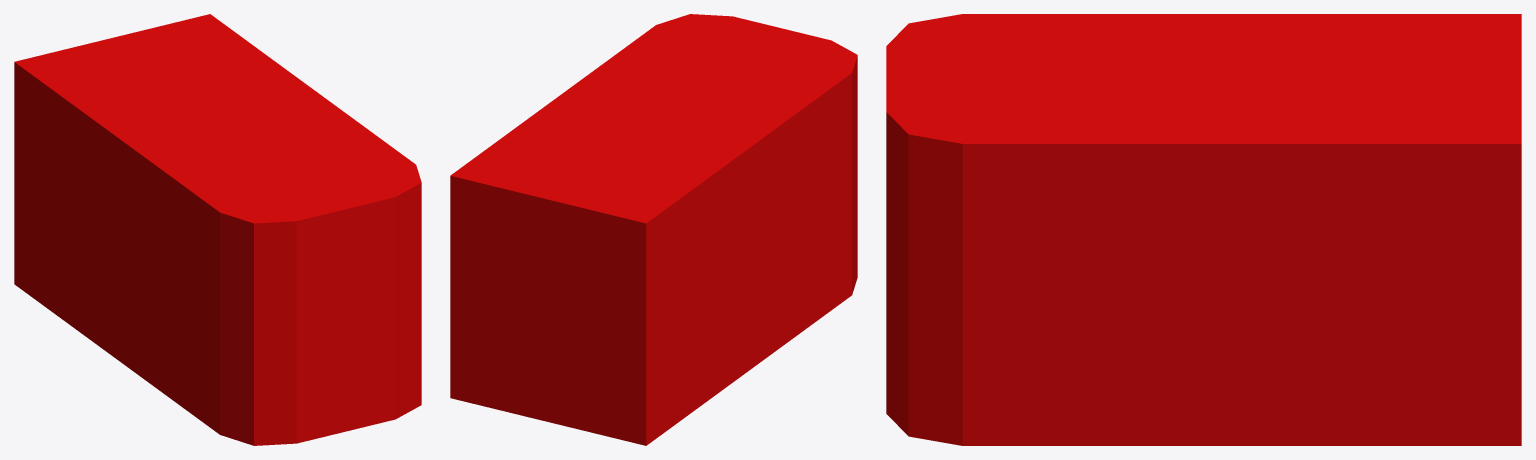
File: c_pipe_2.fbx
3 views of the same model, side by side, from view 1: azimuth 30°, elevation 25°; view 2: azimuth 150°, elevation 25°; view 3: azimuth 270°, elevation 25° (orthographic). The views are drawn at different scales.
Parts seen in each view (by area): view 1: coll_pipe_2; view 2: coll_pipe_2; view 3: coll_pipe_2.
Boxes of the visible parts, left/top/right/bottom form: coll_pipe_2: left=14, top=14, right=421, bottom=445; coll_pipe_2: left=450, top=14, right=857, bottom=445; coll_pipe_2: left=886, top=14, right=1521, bottom=445.
Size of the model in its own units: 220 by 239 by 455.
